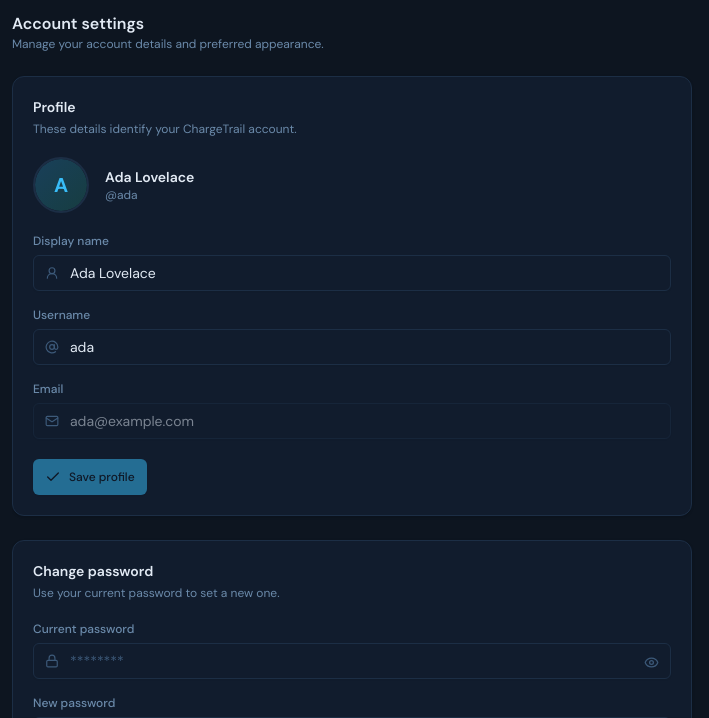
Test case: SettingsPage › saves only mutable profile fields
The width and height of the screenshot is (709, 718).
Replace the text in the field labelled "Display name" with "Augusta Ada": (352, 273) [33,255,671,291]
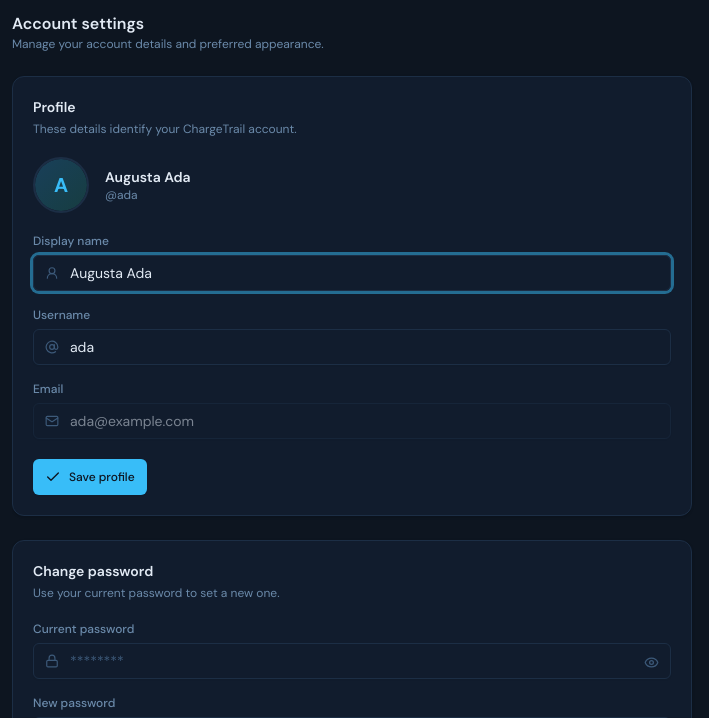
Click the button "Save profile": (90, 477) [33,459,147,495]
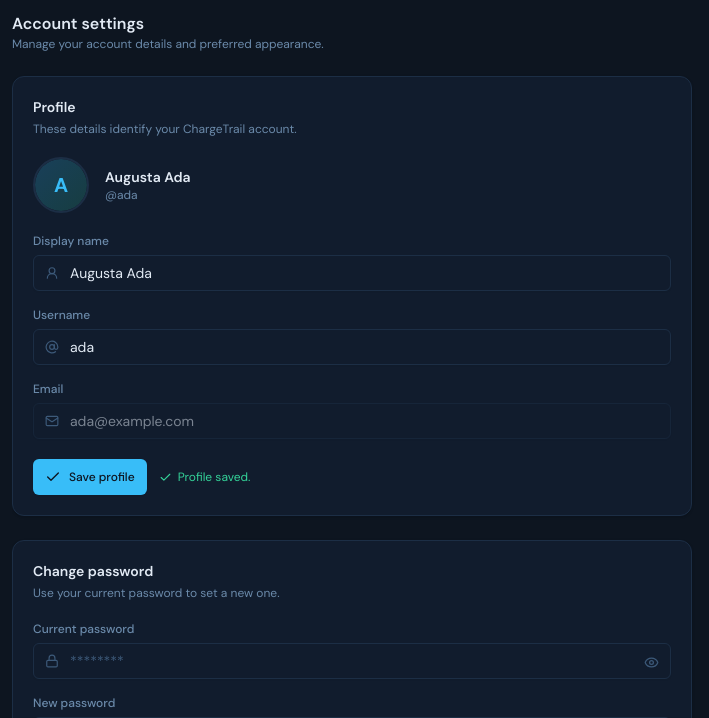
Expected: the text "Profile saved." is shown, [159,469,250,485]
